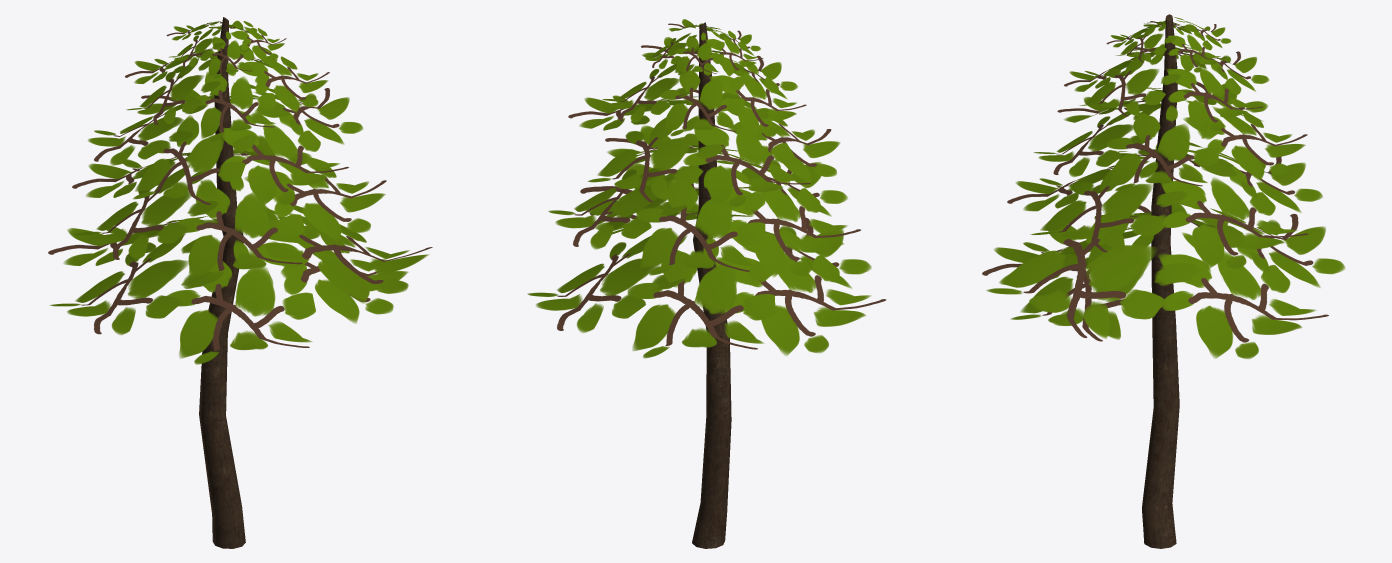
3 views of the same model, side by side, from view 1: azimuth 30°, elevation 25°; view 2: azimuth 150°, elevation 25°; view 3: azimuth 270°, elevation 25° (orthographic).
Parts seen in each view (by area): view 1: Pine_4; view 2: Pine_4; view 3: Pine_4.
Part boxes in pixels (<box>): Pine_4: <box>48,17,432,548</box>; Pine_4: <box>527,19,886,548</box>; Pine_4: <box>982,14,1345,548</box>.
Size of the model in its own units: 4.61 by 6.07 by 4.47.
2 materials, 2 textured.
